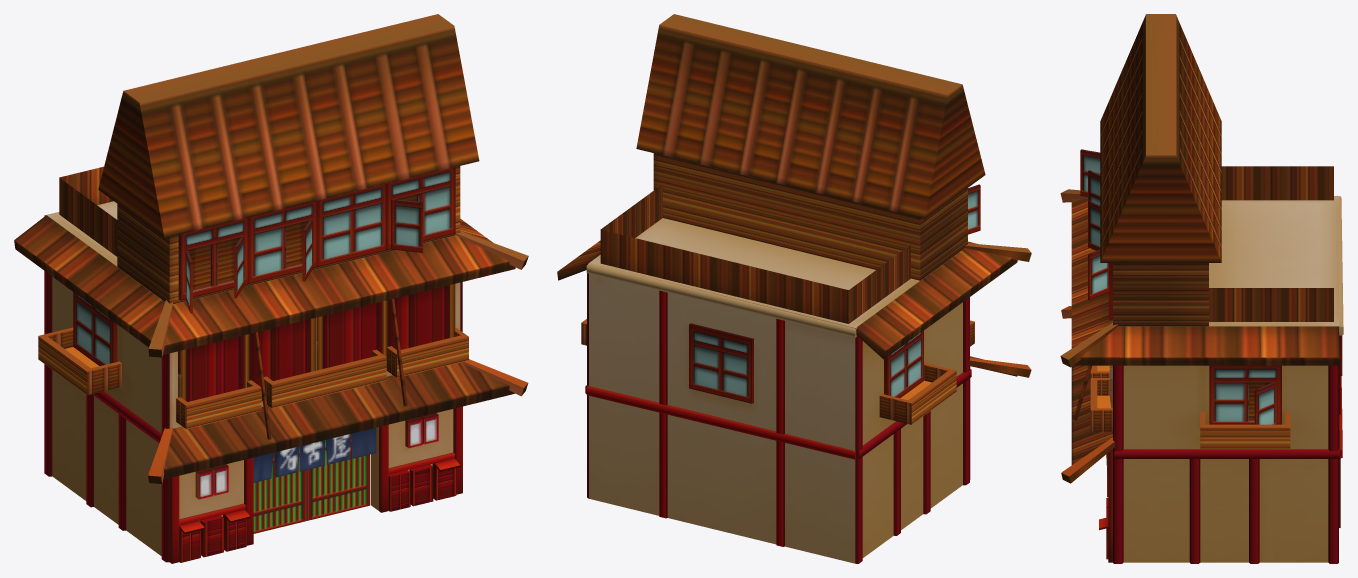
Rendered from house_04.FBX.
3 renders of one model, left to right at view 1: azimuth 30°, elevation 25°; view 2: azimuth 150°, elevation 25°; view 3: azimuth 270°, elevation 25°, orthographic. The views are drawn at different scales.
Visible parts, largest first — view 1: house_04; view 2: house_04; view 3: house_04.
Boxes of the visible parts, x1,y1,x2,y2 form: house_04: (14,14,528,563); house_04: (557,14,1031,563); house_04: (1060,14,1343,563).
Size of the model in its own units: 144118 by 162636 by 101047.
